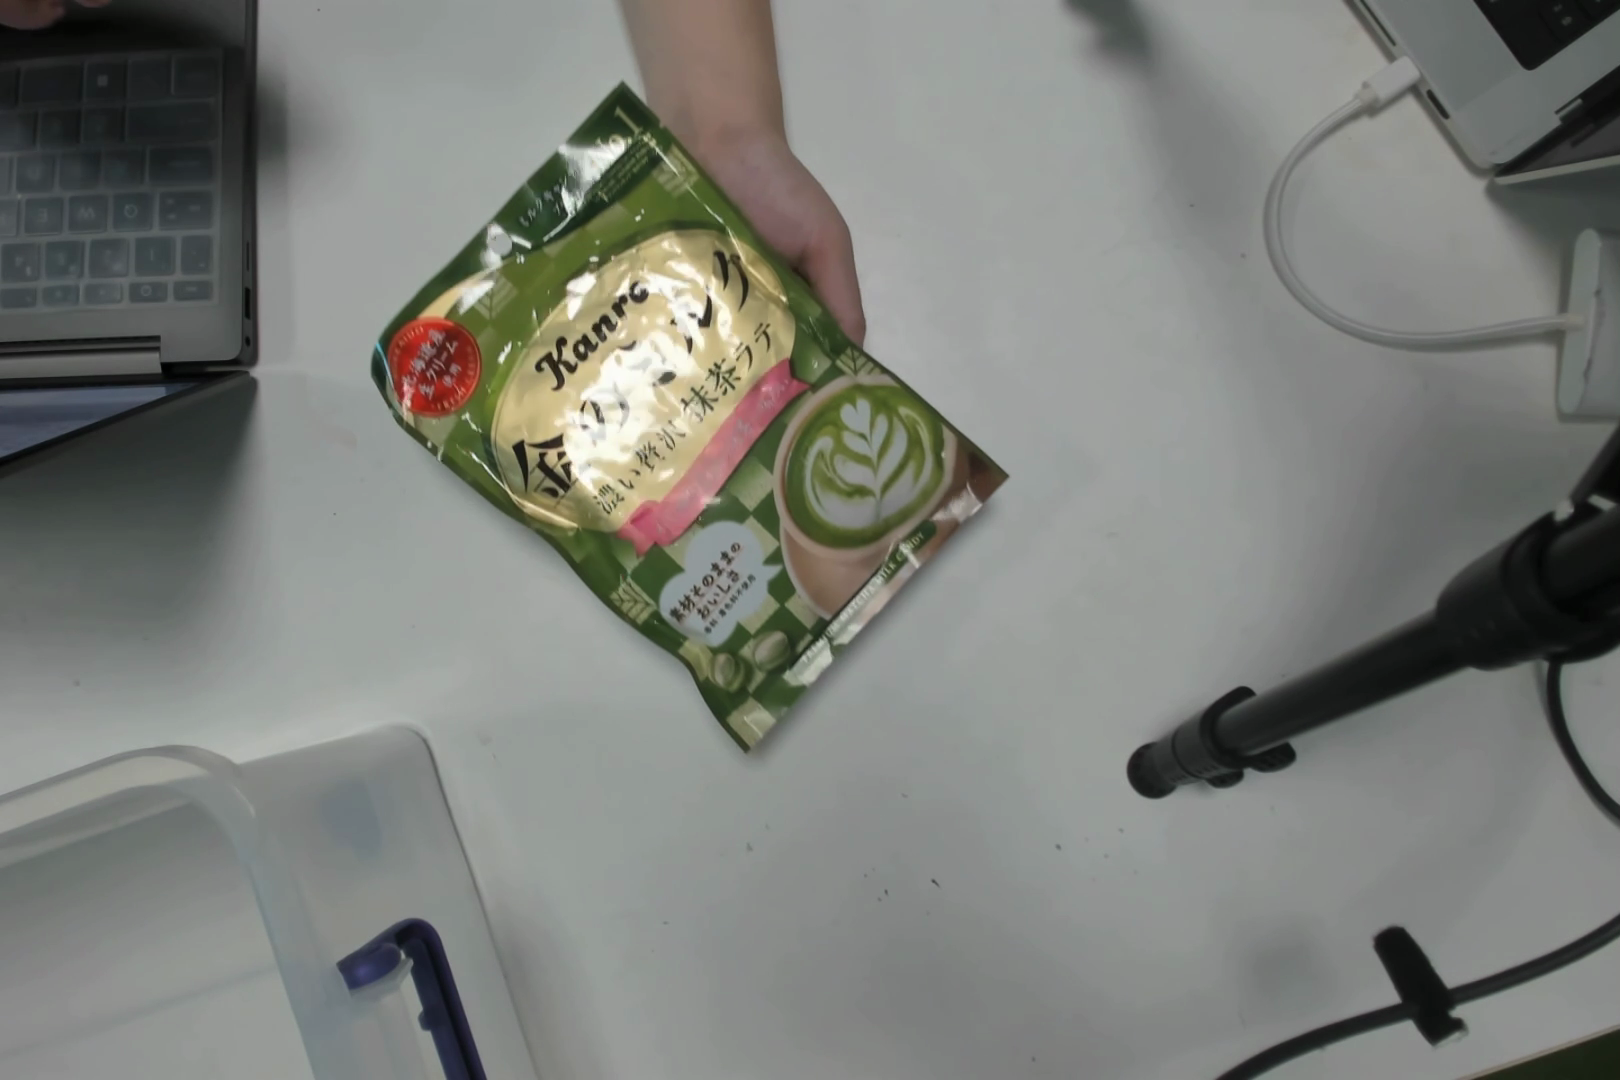SweetsChocolatesOthers_1-99g_NonHalal_NonHealthy: (456, 180, 945, 708)
